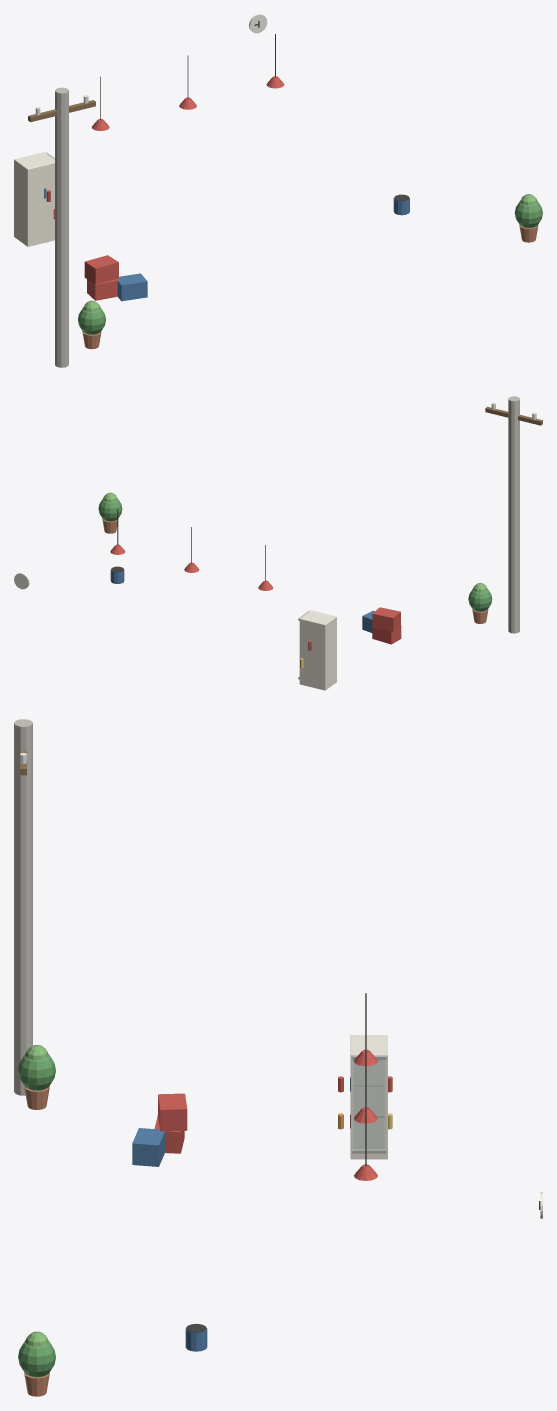
The model's file is WartegProps.fbx.
3 views of the same model, one above another, from view 1: azimuth 30°, elevation 25°; view 2: azimuth 150°, elevation 25°; view 3: azimuth 270°, elevation 25° (orthographic). The views are drawn at different scales.
Parts seen in each view (by area): view 1: PowerPole, DrinkCoolerBody, Crate_1, Crate_2, PlantFoliage_0, PlantFoliage_1, Crate_0; view 2: PowerPole, DrinkCoolerBody, Crate_1, PlantFoliage_1, PlantFoliage_0, Crate_0; view 3: PowerPole, DrinkCoolerBody, DrinkCoolerGlass, Crate_2, Crate_1, PlantFoliage_1, PlantFoliage_0.
Part boxes in pixels (x1,y1,x2,y2): PowerPole: (55,87,68,367); DrinkCoolerBody: (14,152,54,246); Crate_1: (84,255,118,284); Crate_2: (116,273,147,301); PlantFoliage_0: (514,200,542,228); PlantFoliage_1: (78,307,105,334); Crate_0: (87,279,120,300); PowerPole: (508,396,519,633); DrinkCoolerBody: (299,610,336,690); Crate_1: (372,607,400,631); PlantFoliage_1: (468,588,492,611); PlantFoliage_0: (98,498,122,521); Crate_0: (372,625,401,644); PowerPole: (14,719,32,1095); DrinkCoolerBody: (350,1035,387,1159); DrinkCoolerGlass: (354,1060,384,1149); Crate_2: (132,1128,164,1166); Crate_1: (158,1093,187,1131); PlantFoliage_1: (18,1053,55,1090); PlantFoliage_0: (18,1340,55,1377).
Size of the model in its own units: 11.83 by 6 by 7.8.
